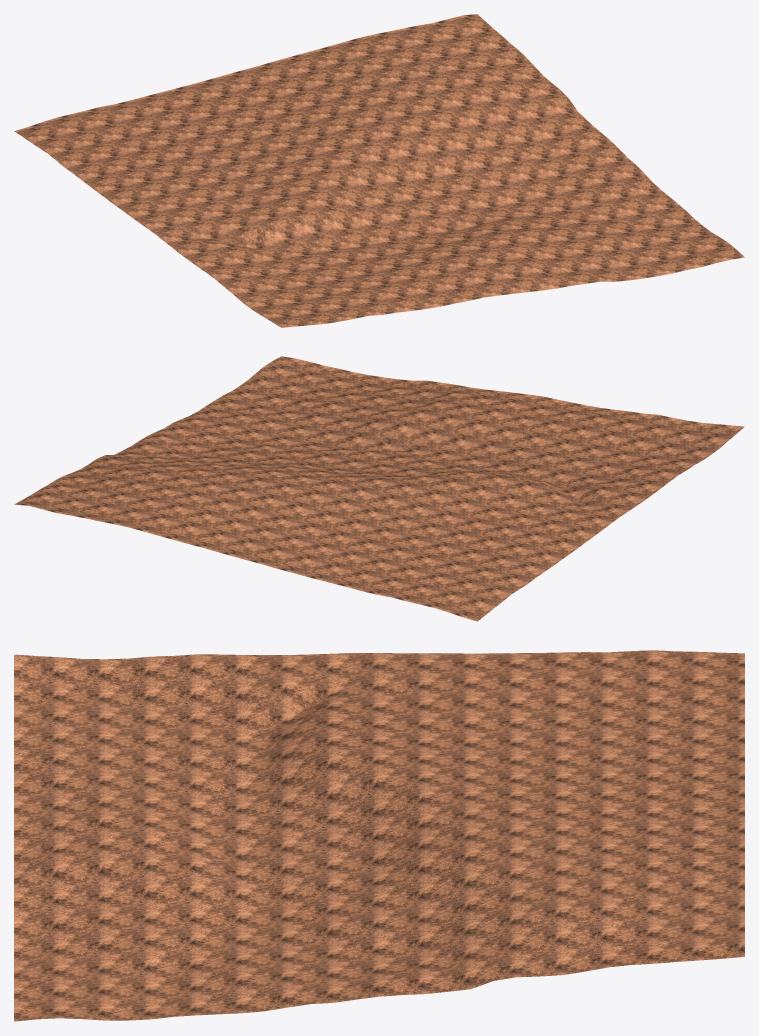
File: terrain_03_21.dae
The picture shows the model from 3 angles, top to bottom: view 1: azimuth 30°, elevation 25°; view 2: azimuth 150°, elevation 25°; view 3: azimuth 270°, elevation 25°; orthographic projection. The views are drawn at different scales.
Visible parts, largest first — view 1: terrain_03_21-node; view 2: terrain_03_21-node; view 3: terrain_03_21-node.
Boxes of the visible parts, bbox=[...] form: terrain_03_21-node: bbox=[14, 14, 744, 327]; terrain_03_21-node: bbox=[14, 356, 744, 621]; terrain_03_21-node: bbox=[14, 650, 744, 1021].
Bounding box in the file's own units: 128 × 128 × 13.89.
1 material, 1 textured.
